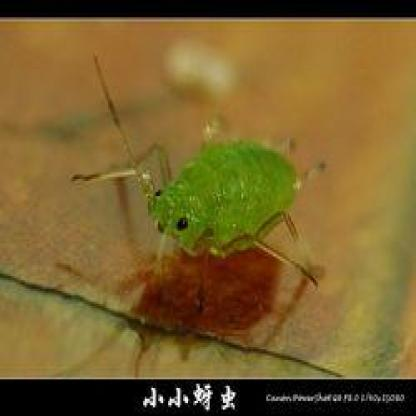aphid: (101, 122, 334, 274)
